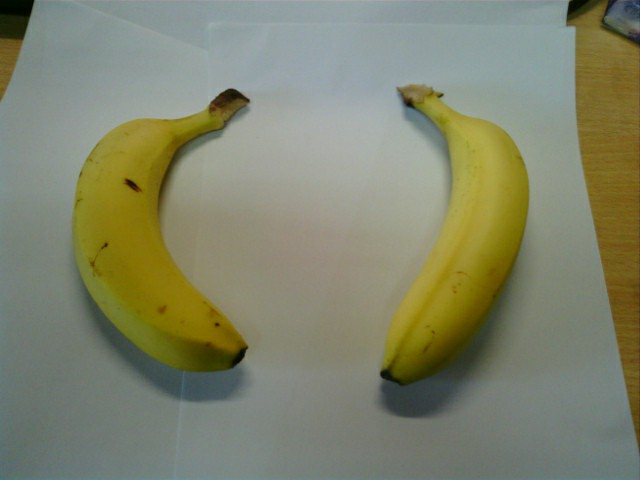fresh_banana: (385, 81, 529, 384)
normal_banana: (70, 90, 251, 375)
